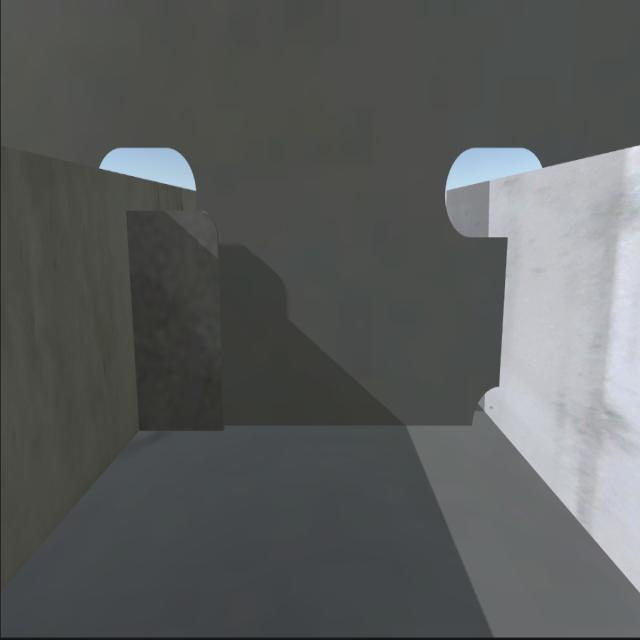fillet_hole: (461, 380, 502, 432)
fillet_yong_jeop_jang: (139, 414, 472, 432)
longi_yong_jeop_jang: (124, 220, 144, 430), (488, 236, 512, 382)
plate_CP05: (130, 210, 227, 421)
